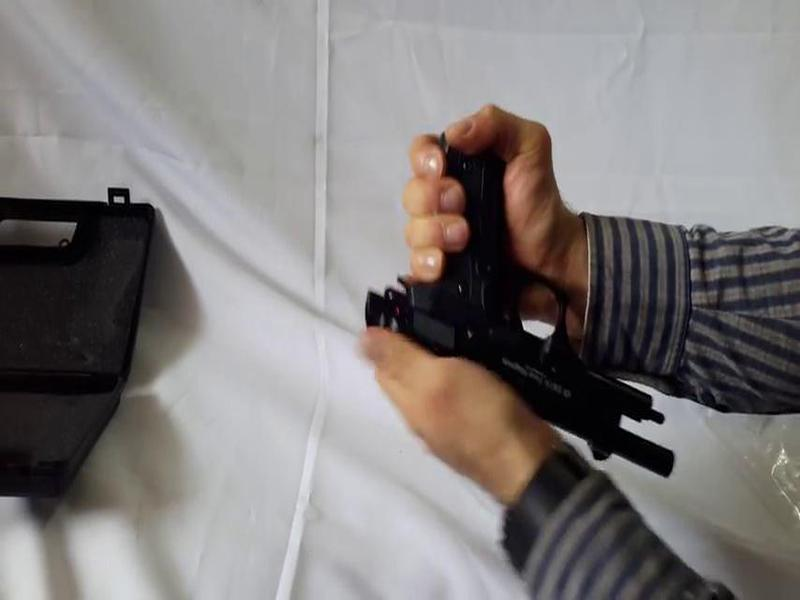Pistola: (334, 143, 689, 500)
